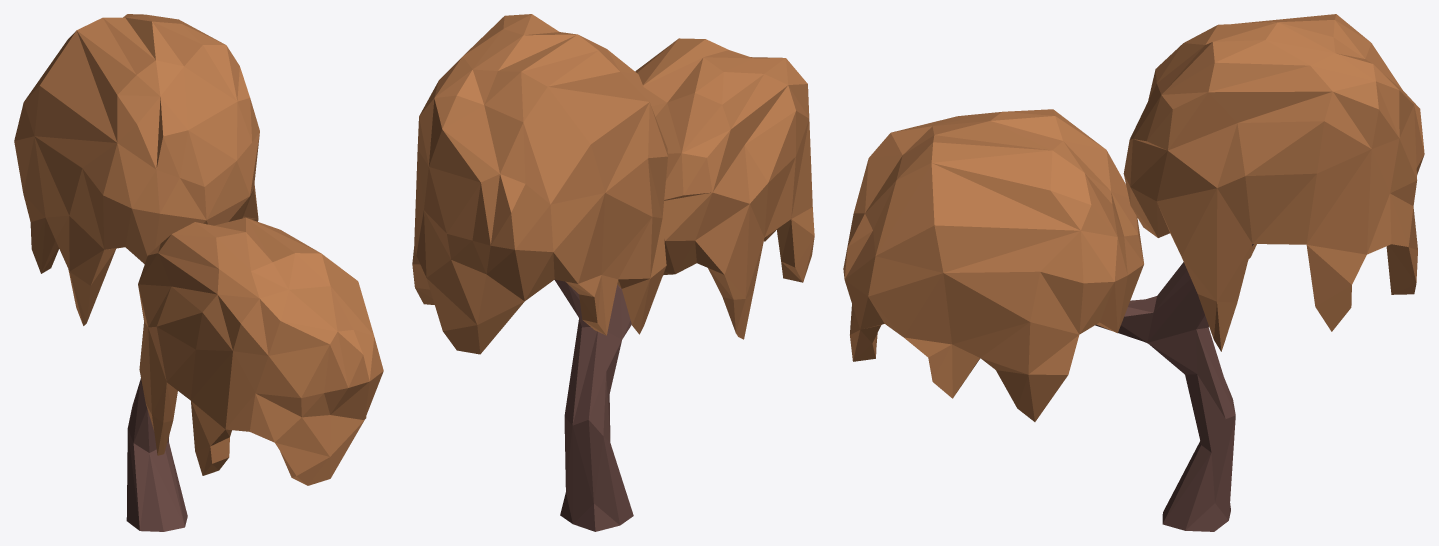
The model's file is Willow_Autumn_5.lod1.glb.
3 views of the same model, side by side, from view 1: azimuth 30°, elevation 25°; view 2: azimuth 150°, elevation 25°; view 3: azimuth 270°, elevation 25° (orthographic). The views are drawn at different scales.
Parts seen in each view (by area): view 1: Willow_Autumn_5; view 2: Willow_Autumn_5; view 3: Willow_Autumn_5.
Boxes of the visible parts, box(x1,y1,x2,y2) form: Willow_Autumn_5: box(14, 14, 383, 531); Willow_Autumn_5: box(412, 14, 814, 531); Willow_Autumn_5: box(843, 14, 1424, 531).
Bounding box in the file's own units: 1.01 × 2.41 × 2.48.
